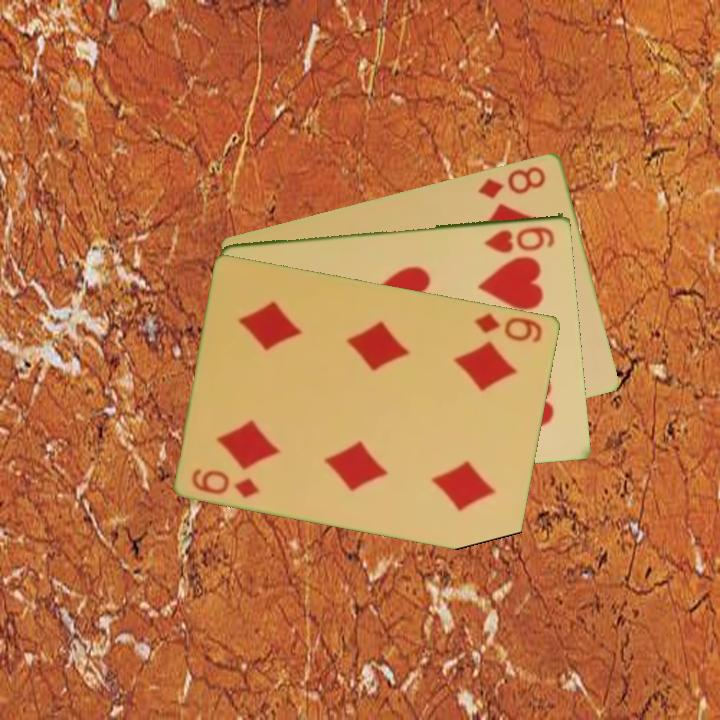6d: (471, 309, 546, 345), (188, 465, 264, 500)
6h: (481, 223, 558, 256)
8d: (475, 162, 549, 201)
